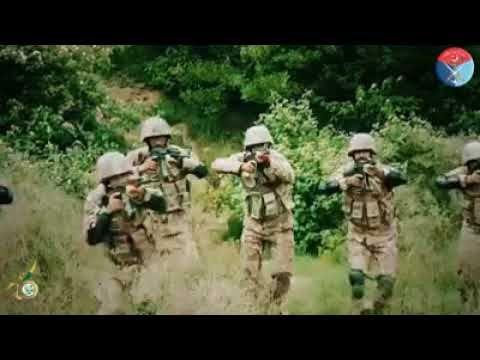uniform: (316, 125, 412, 308), (127, 108, 208, 277), (229, 121, 306, 295), (83, 149, 159, 307), (444, 134, 480, 280)
